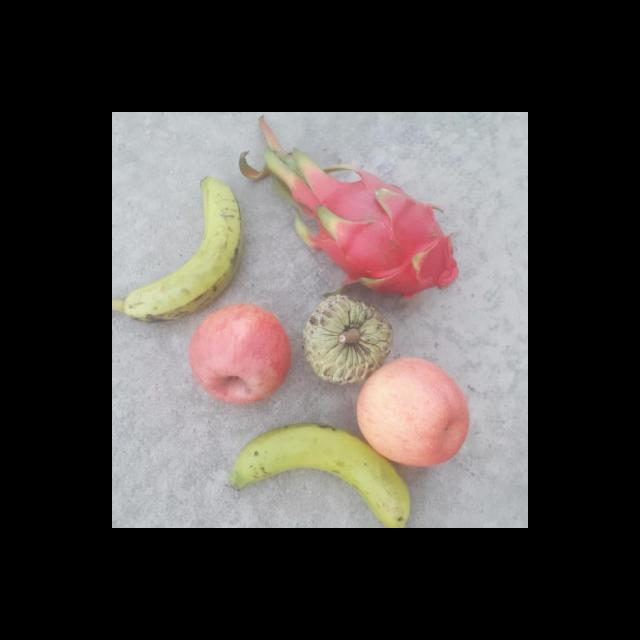Sakya fruit: (301, 294, 397, 388)
apple: (355, 354, 475, 467), (188, 300, 292, 404)
banana: (222, 420, 415, 528), (112, 170, 247, 322)
pitaya: (314, 173, 462, 294)
